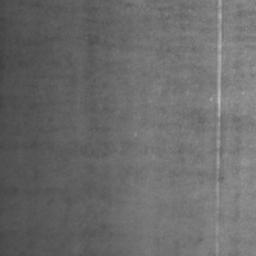Bright scratch: (215, 0, 223, 256)
